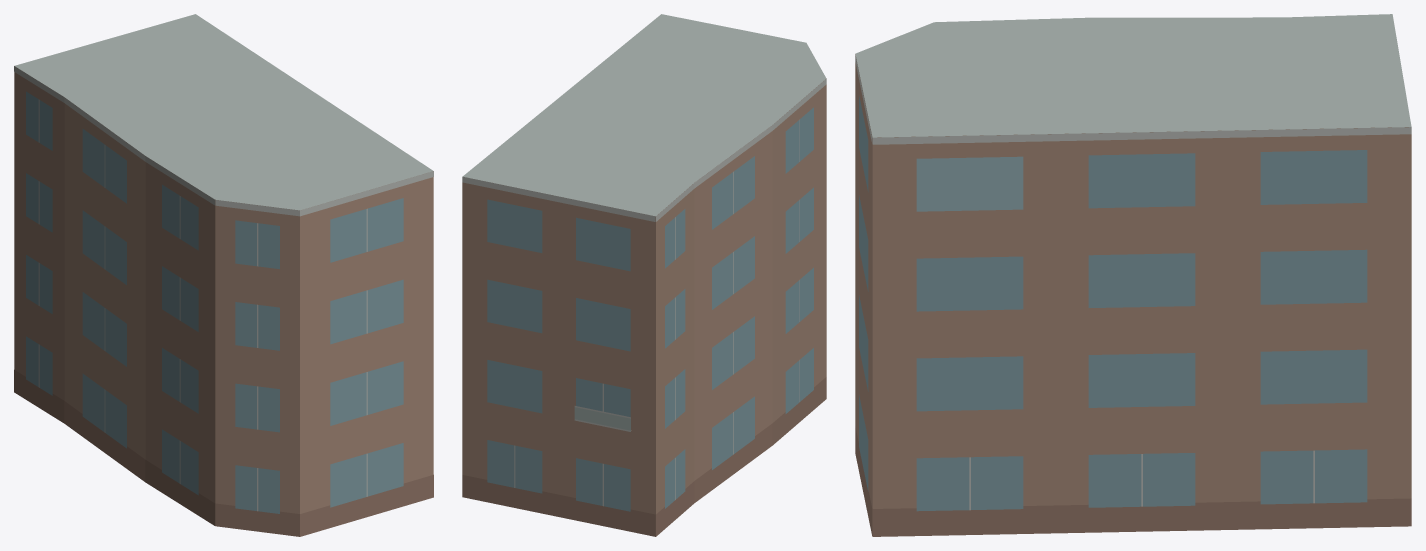
The model's file is survey-upis-32631360.glb.
3 renders of one model, left to right at view 1: azimuth 30°, elevation 25°; view 2: azimuth 150°, elevation 25°; view 3: azimuth 270°, elevation 25°, orthographic. The views are drawn at different scales.
Parts seen in each view (by area): view 1: survey-upis-32631360.tmp; view 2: survey-upis-32631360.tmp; view 3: survey-upis-32631360.tmp.
Boxes of the visible parts, x1,y1,x2,y2 form: survey-upis-32631360.tmp: [14, 14, 433, 536]; survey-upis-32631360.tmp: [462, 14, 826, 536]; survey-upis-32631360.tmp: [855, 14, 1411, 536].
Size of the model in its own units: 8.9 by 13.4 by 16.93.
